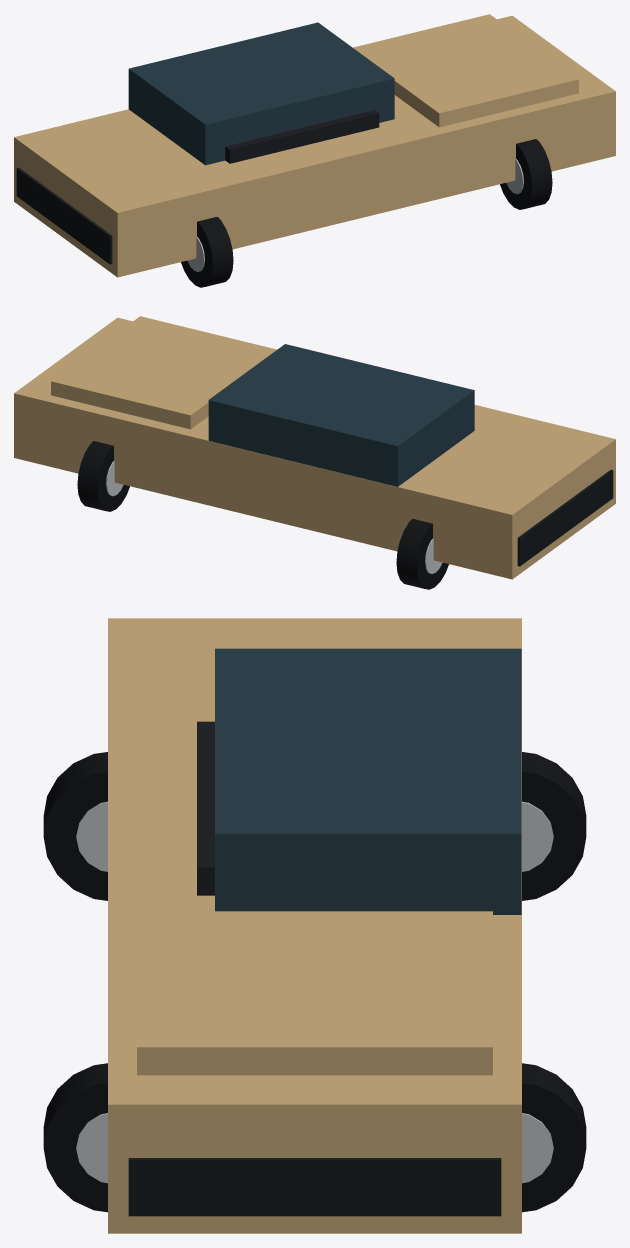
File: rr_corniche.glb
3 views of the same model, one above another, from view 1: azimuth 30°, elevation 25°; view 2: azimuth 150°, elevation 25°; view 3: azimuth 270°, elevation 25° (orthographic). The views are drawn at different scales.
Visible parts, largest first — view 1: body, cabin, hood, rear_bumper, interior, rear_right_wheel, front_right_wheel; view 2: body, cabin, hood, rear_bumper, rear_left_wheel, front_left_wheel; view 3: body, cabin, hood, front_bumper, front_left_wheel, front_right_wheel, rear_left_wheel, rear_right_wheel, interior.
Boxes of the visible parts, left/top/right/bottom form: body: left=14, top=15, right=615, bottom=277; cabin: left=128, top=22, right=394, bottom=165; hood: left=353, top=14, right=578, bottom=127; rear_bumper: left=16, top=167, right=112, bottom=264; interior: left=225, top=110, right=379, bottom=163; rear_right_wheel: left=181, top=216, right=233, bottom=287; front_right_wheel: left=500, top=139, right=552, bottom=209; body: left=14, top=317, right=615, bottom=579; cabin: left=208, top=344, right=474, bottom=486; hood: left=51, top=316, right=276, bottom=429; rear_bumper: left=517, top=469, right=613, bottom=566; rear_left_wheel: left=396, top=518, right=448, bottom=589; front_left_wheel: left=77, top=441, right=129, bottom=511; body: left=108, top=618, right=521, bottom=1233; cabin: left=215, top=648, right=521, bottom=914; hood: left=137, top=911, right=492, bottom=1075; front_bumper: left=128, top=1158, right=501, bottom=1216; front_left_wheel: left=522, top=1063, right=586, bottom=1212; front_right_wheel: left=43, top=1063, right=107, bottom=1212; rear_left_wheel: left=522, top=752, right=586, bottom=900; rear_right_wheel: left=43, top=752, right=107, bottom=900; interior: left=197, top=721, right=214, bottom=895.
Bounding box in the file's own units: 5.44 × 1.38 × 2.54.
